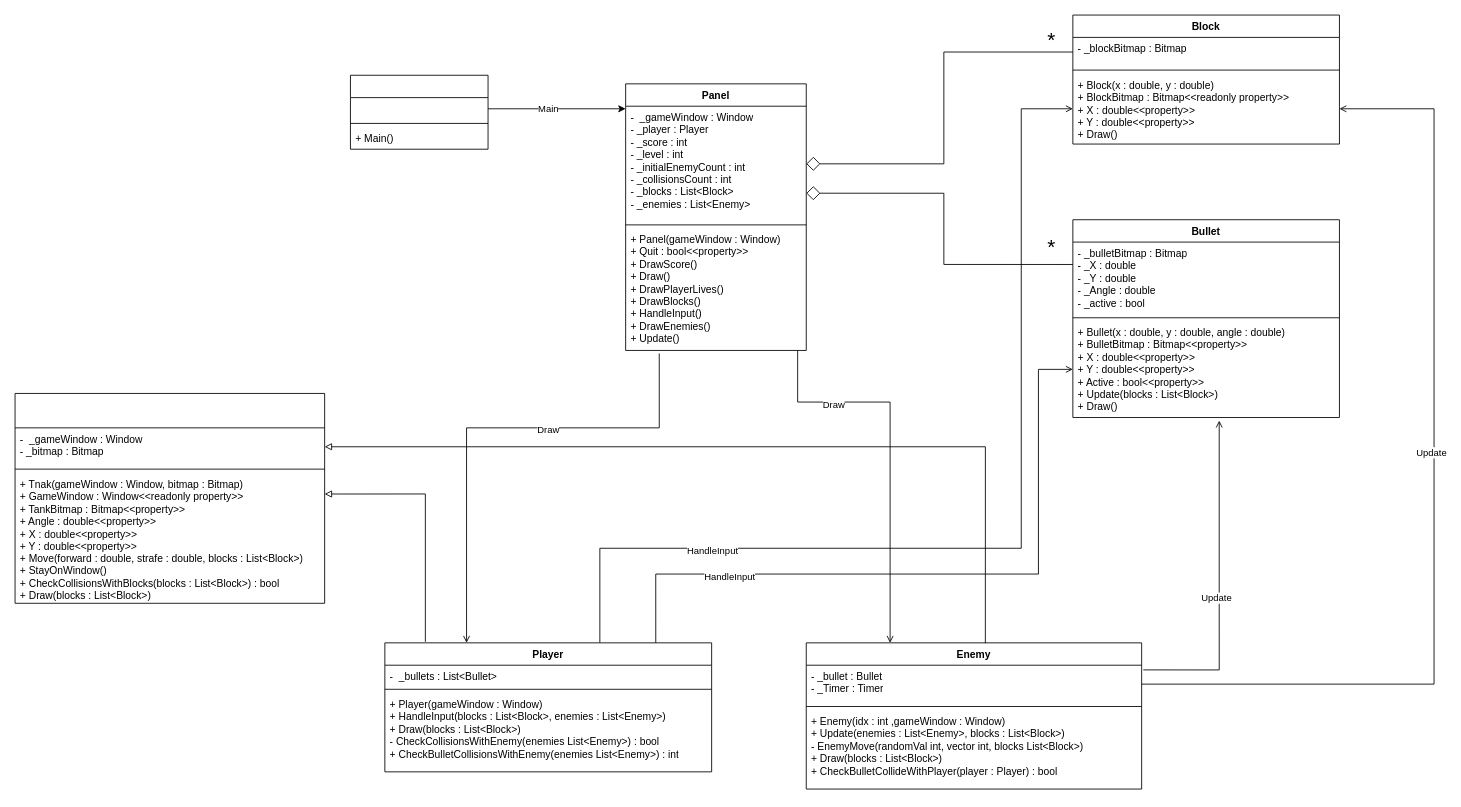
This 1461x807 diagram has some shape labels left out. Each missing label, with the box of its shape:
<<abstract>> Tank: (14, 393, 325, 603)
Program: (350, 74, 488, 149)
